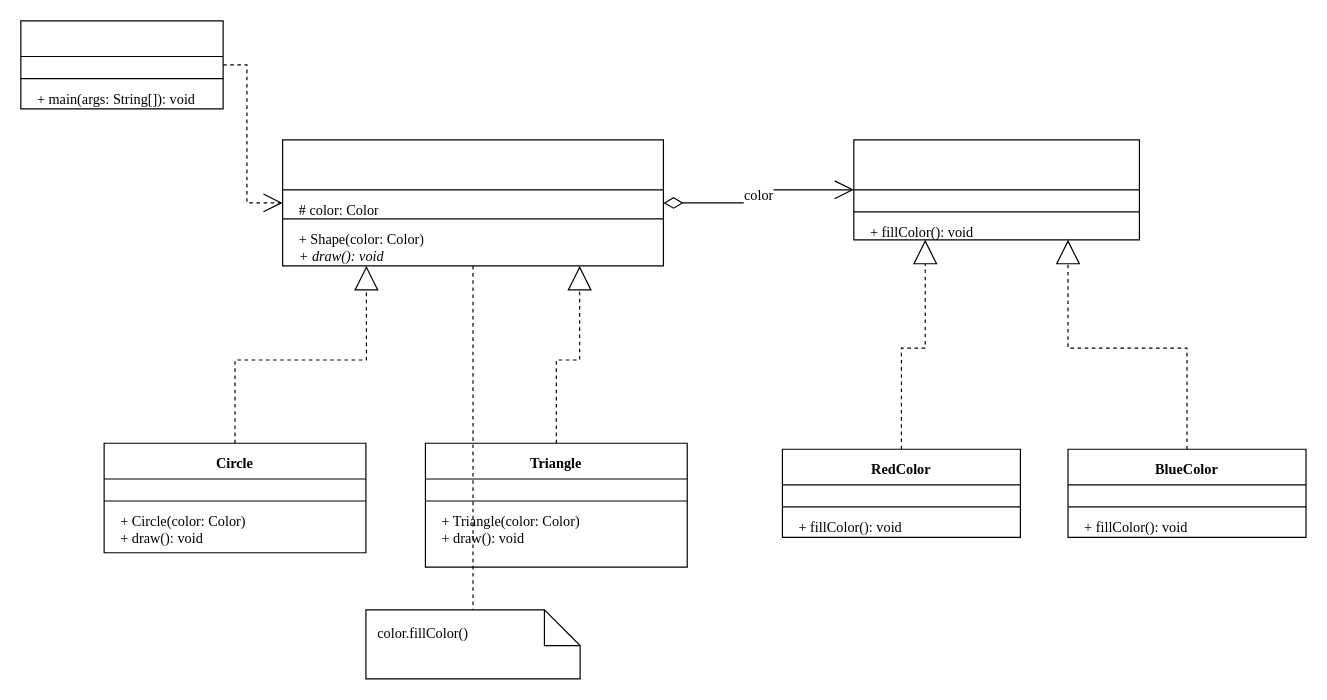
The diagram is 1327 pixels wide and 700 high, and some of its shapes have lost their labels. Here are the shapes that lost their labels. From the top down, the box of each, then its label:
(20, 20, 223, 109): Client
(281, 139, 663, 266): <<abstract>> Shape
(853, 139, 1139, 240): <<interface>> Color
